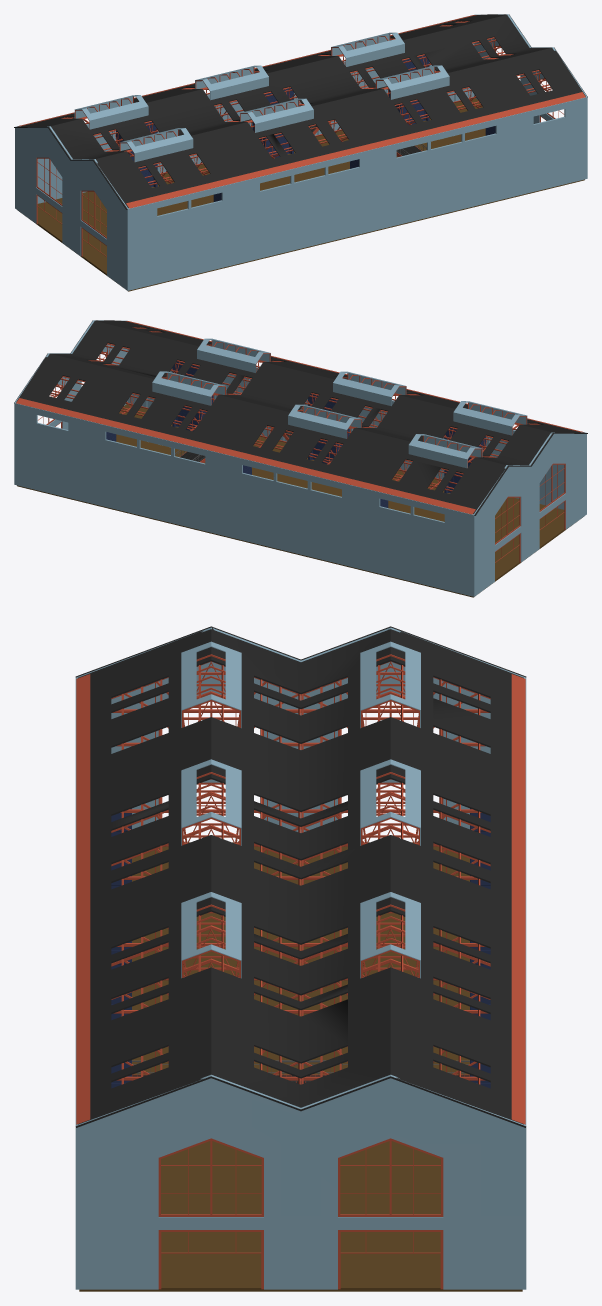
File: Factory.fbx
The picture shows the model from 3 angles, top to bottom: view 1: azimuth 30°, elevation 25°; view 2: azimuth 150°, elevation 25°; view 3: azimuth 270°, elevation 25°; orthographic projection. The views are drawn at different scales.
Visible parts, largest first — view 1: Wall, Roof, Steel, Floor, Room; view 2: Wall, Roof, Steel, Floor, Room; view 3: Roof, Wall, Steel, Floor, Room.
Part boxes in pixels (x1,y1,x2,y2): Wall: [15, 14, 587, 290]; Roof: [14, 14, 587, 209]; Steel: [18, 15, 585, 256]; Floor: [19, 98, 584, 291]; Room: [116, 55, 495, 201]; Wall: [14, 320, 586, 596]; Roof: [14, 320, 587, 515]; Steel: [16, 321, 583, 562]; Floor: [17, 404, 582, 597]; Room: [106, 361, 485, 507]; Roof: [75, 626, 526, 1127]; Wall: [75, 627, 526, 1289]; Steel: [76, 654, 525, 1289]; Floor: [79, 842, 522, 1291]; Room: [111, 808, 490, 1088].
Size of the model in its own units: 80841 by 19740 by 34198.
